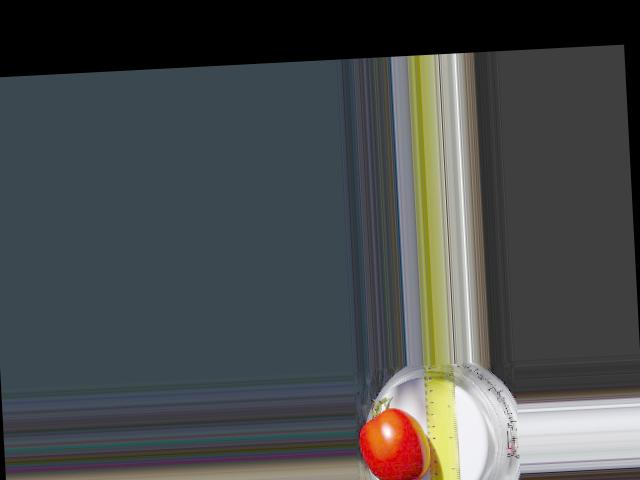tomato: (357, 405, 433, 480)
